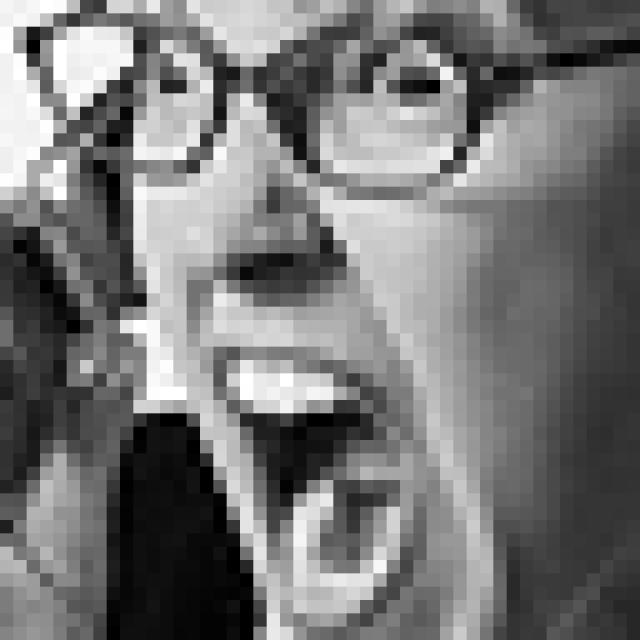angry: (137, 0, 530, 640)
